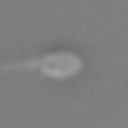normal: (1, 55, 42, 77)
